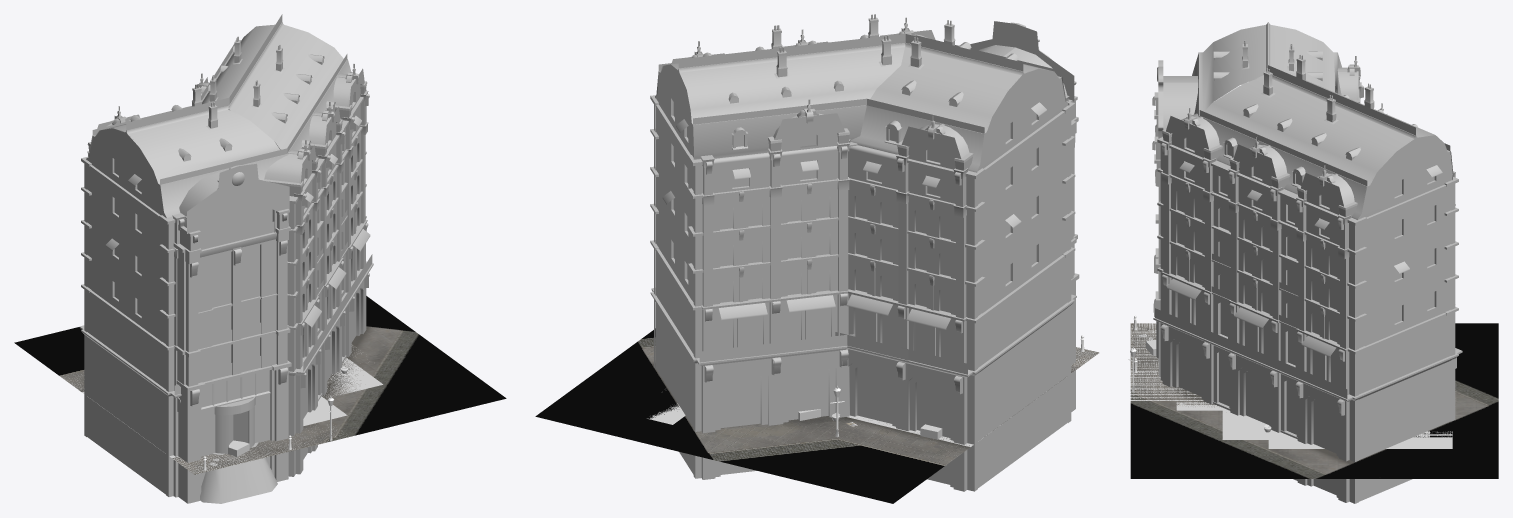
The model's file is wide2.gltf.
3 renders of one model, left to right at view 1: azimuth 30°, elevation 25°; view 2: azimuth 150°, elevation 25°; view 3: azimuth 270°, elevation 25°, orthographic. The views are drawn at different scales.
Visible parts, largest first — view 1: _lod0, _ground, BuildBlocker21, BuildBlocker2, PriorityFeedbackBlocker21; view 2: _lod0, _ground; view 3: _lod0, _ground, BuildBlocker2, BuildBlocker21, PriorityFeedbackBlocker23.
Part boxes in pixels (x1=…): _lod0: x1=79, y1=14, x2=373, y2=503; _ground: x1=14, y1=296, x2=506, y2=474; BuildBlocker21: x1=322, y1=357, x2=382, y2=397; BuildBlocker2: x1=63, y1=374, x2=348, y2=474; PriorityFeedbackBlocker21: x1=303, y1=396, x2=347, y2=424; _lod0: x1=650, y1=14, x2=1079, y2=491; _ground: x1=535, y1=328, x2=1098, y2=503; _lod0: x1=1152, y1=22, x2=1462, y2=503; _ground: x1=1130, y1=323, x2=1498, y2=478; BuildBlocker2: x1=1130, y1=323, x2=1203, y2=400; BuildBlocker21: x1=1222, y1=410, x2=1297, y2=439; PriorityFeedbackBlocker23: x1=1268, y1=431, x2=1452, y2=448.
Size of what is drawn, in the model's own units: 4.08 by 4.33 by 4.02.
